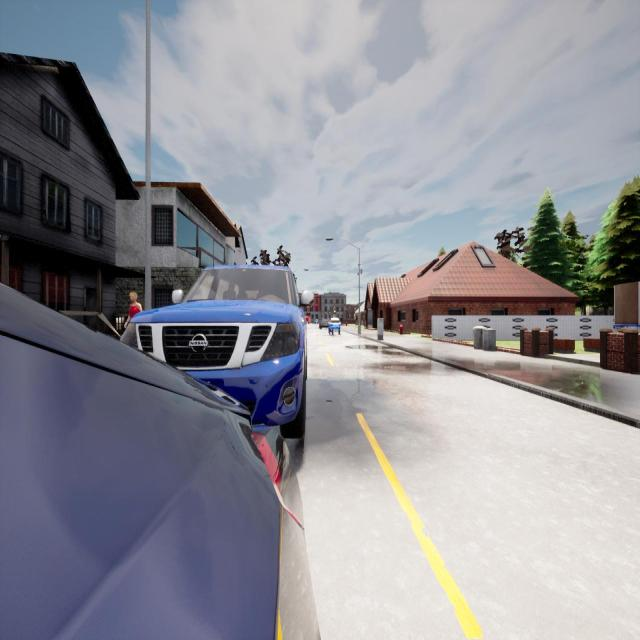Pedestrian: (125, 291, 142, 328)
Vehicle: (0, 286, 316, 639), (121, 266, 305, 439), (328, 318, 341, 334), (320, 318, 328, 328), (306, 315, 311, 324), (314, 319, 318, 325)
traffic_light: (334, 309, 336, 314)
